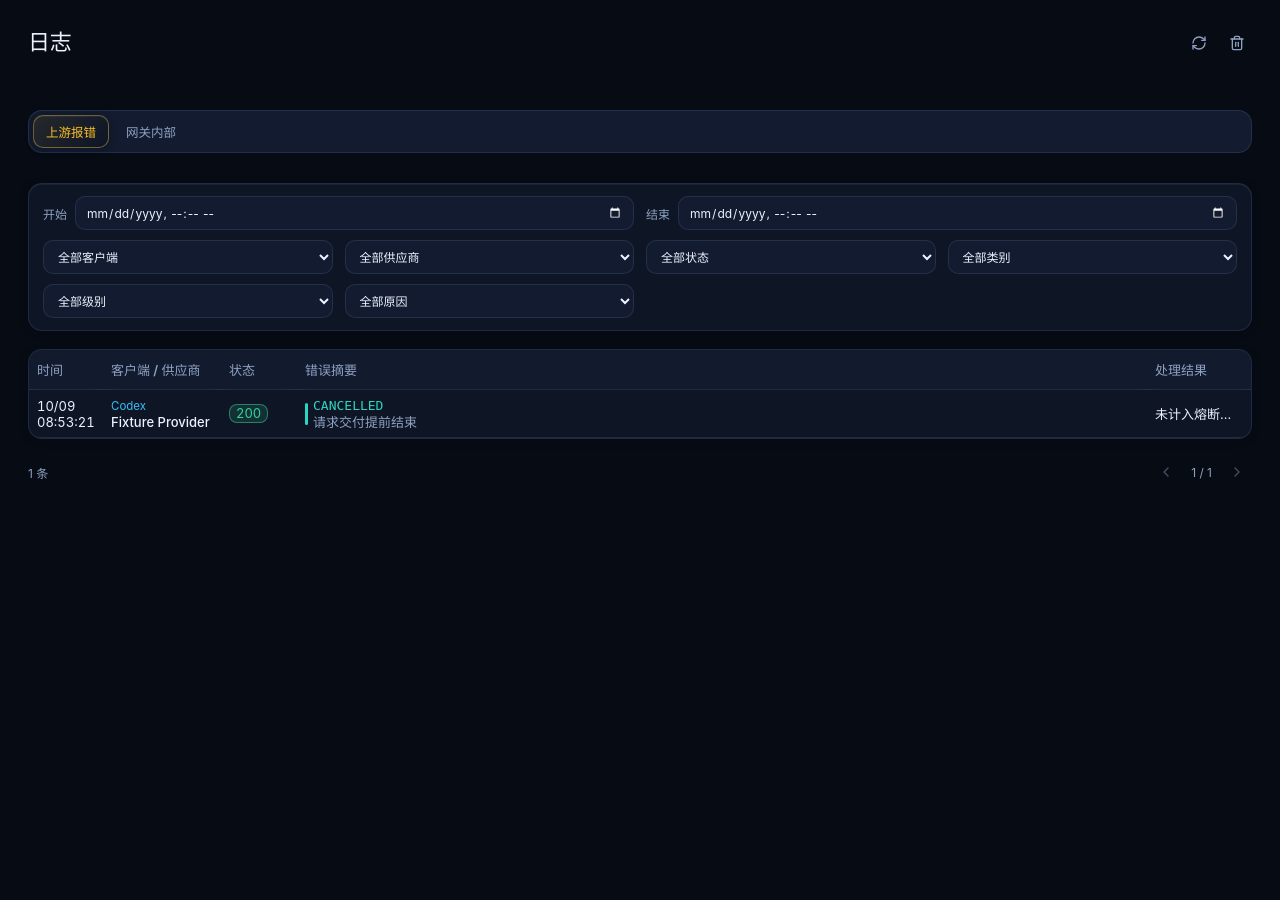
Test case: renders an explicit cancellation as a status record
Click the button "CANCELLED 请求交付提前结束": x=348, y=405 [305,398,1139,430]
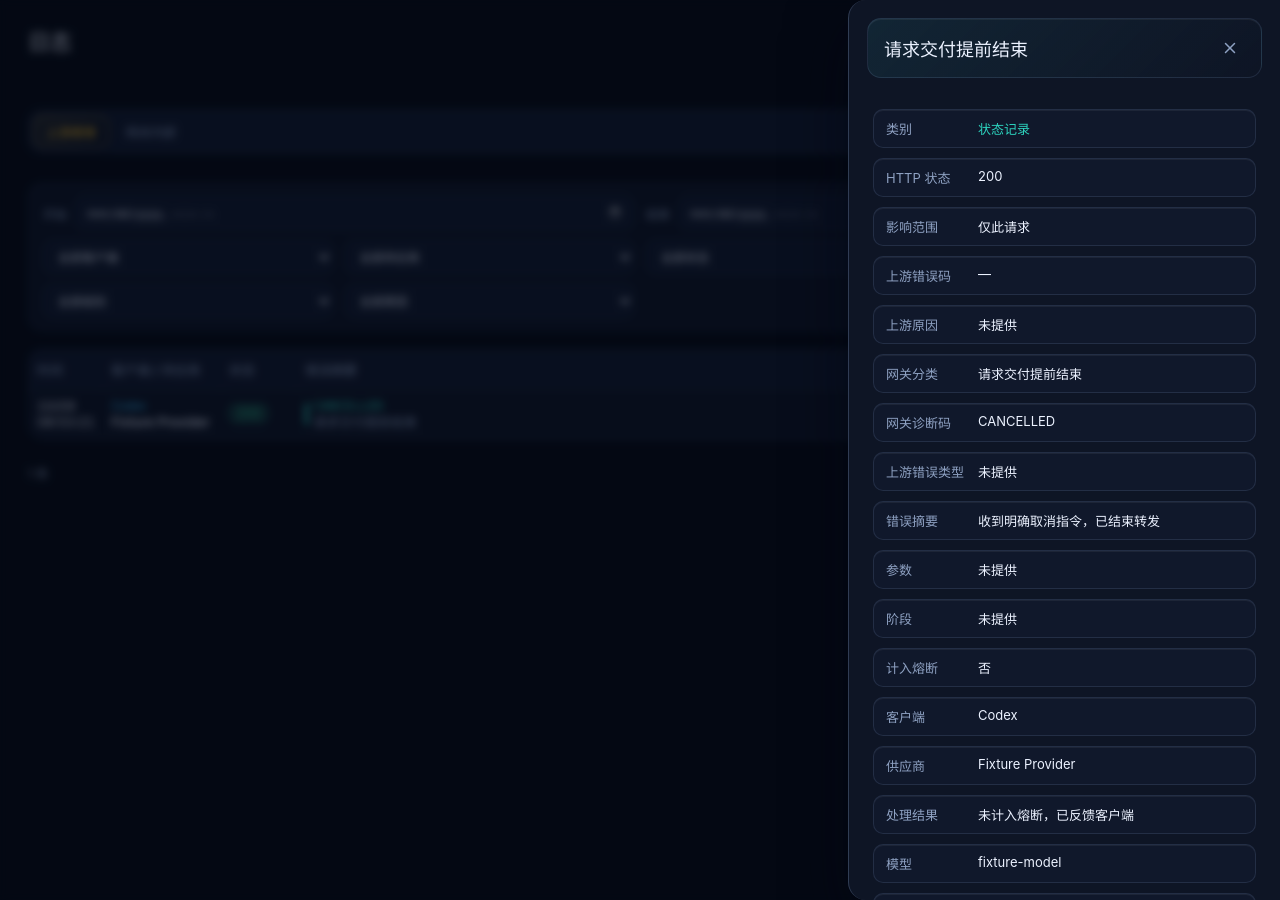
Check: the text "状态记录" is shown, box [978,121,1030,137]
Check: the text "CANCELLED" is shown, box [978,413,1055,429]
Check: the text "收到明确取消指令，已结束转发" is shown, box [978,513,1160,529]
